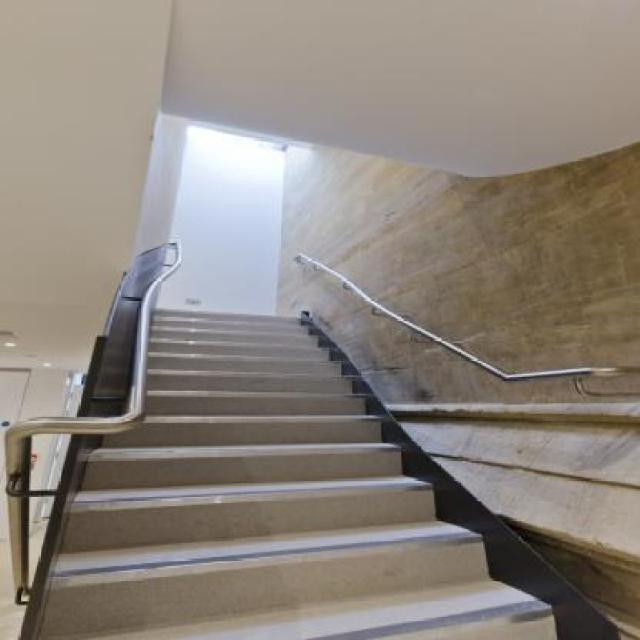stair: (40, 315, 554, 640)
